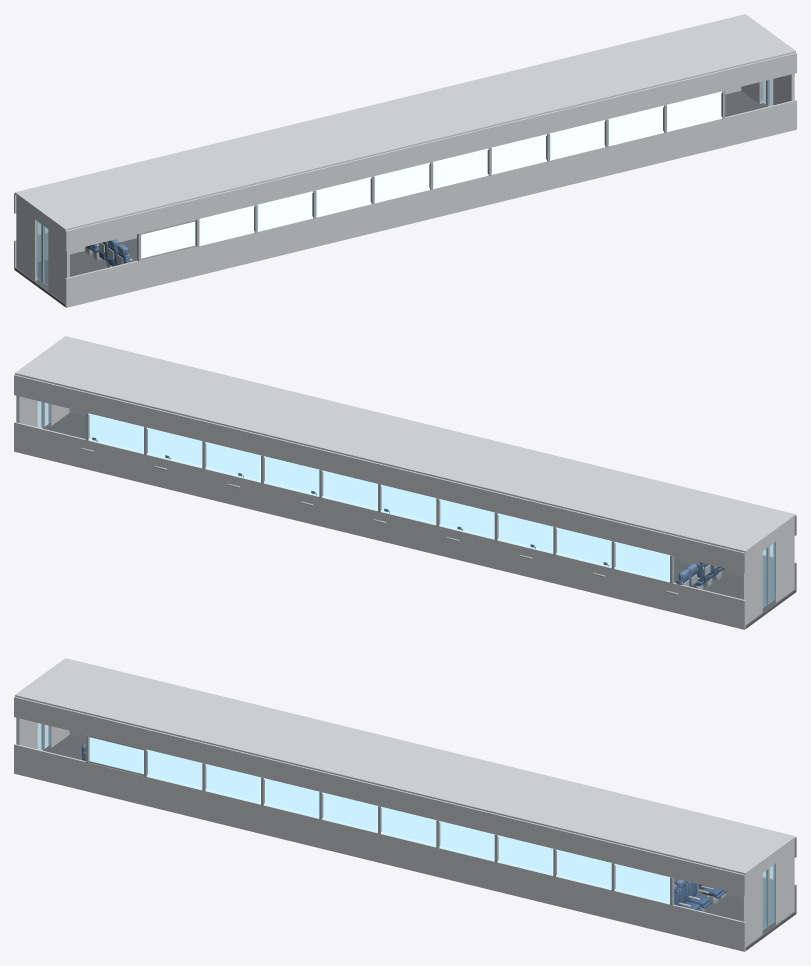
Rendered from cr400af-passenger-cabin-v001.glb.
3 views of the same model, one above another, from view 1: azimuth 30°, elevation 25°; view 2: azimuth 150°, elevation 25°; view 3: azimuth 330°, elevation 25° (orthographic).
Visible parts, largest first — view 1: CR400AF_Passenger_Cabin; view 2: CR400AF_Passenger_Cabin; view 3: CR400AF_Passenger_Cabin.
Boxes of the visible parts, left/top/right/bottom form: CR400AF_Passenger_Cabin: left=14, top=14, right=796, bottom=307; CR400AF_Passenger_Cabin: left=14, top=336, right=796, bottom=629; CR400AF_Passenger_Cabin: left=14, top=658, right=796, bottom=951.
Bounding box in the file's own units: 25 × 2.55 × 3.16.
